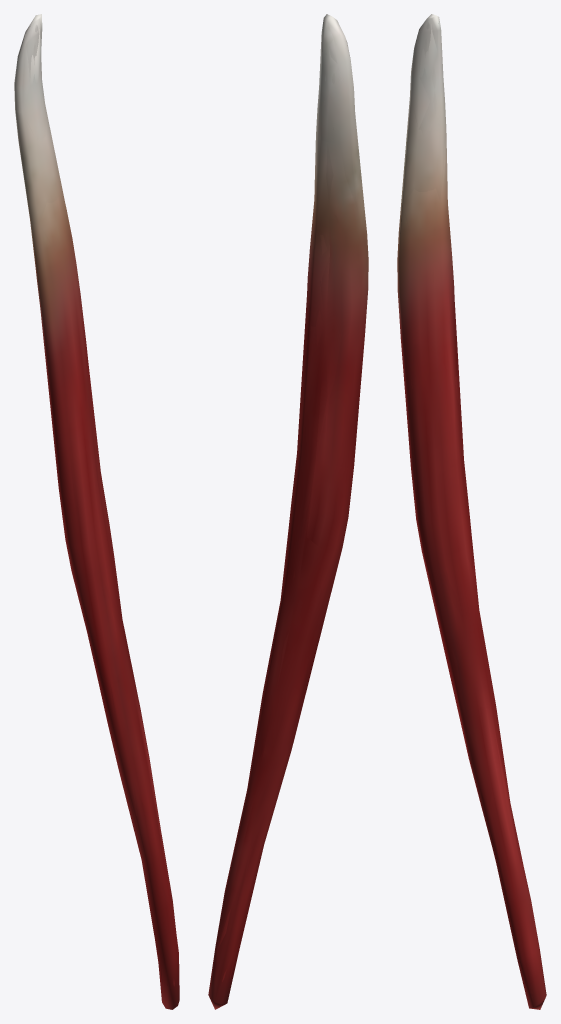
The model's file is R Supinator.fbx.
3 renders of one model, left to right at view 1: azimuth 30°, elevation 25°; view 2: azimuth 150°, elevation 25°; view 3: azimuth 330°, elevation 25°, orthographic. The views are drawn at different scales.
Visible parts, largest first — view 1: R Supinator low, R Supinator, R Supinator high; view 2: R Supinator low, R Supinator, R Supinator high; view 3: R Supinator low, R Supinator, R Supinator high.
Boxes of the visible parts, bbox=[...] form: R Supinator low: bbox=[14, 15, 178, 1004]; R Supinator: bbox=[14, 14, 179, 1009]; R Supinator high: bbox=[18, 24, 175, 986]; R Supinator low: bbox=[210, 17, 368, 1001]; R Supinator: bbox=[208, 14, 368, 1009]; R Supinator high: bbox=[222, 26, 364, 981]; R Supinator low: bbox=[398, 15, 534, 997]; R Supinator: bbox=[397, 14, 546, 1009]; R Supinator high: bbox=[404, 22, 529, 985].
Bounding box in the file's own units: 1.18 × 7.55 × 0.4902.
Materials: 1 (1 with a texture image).
